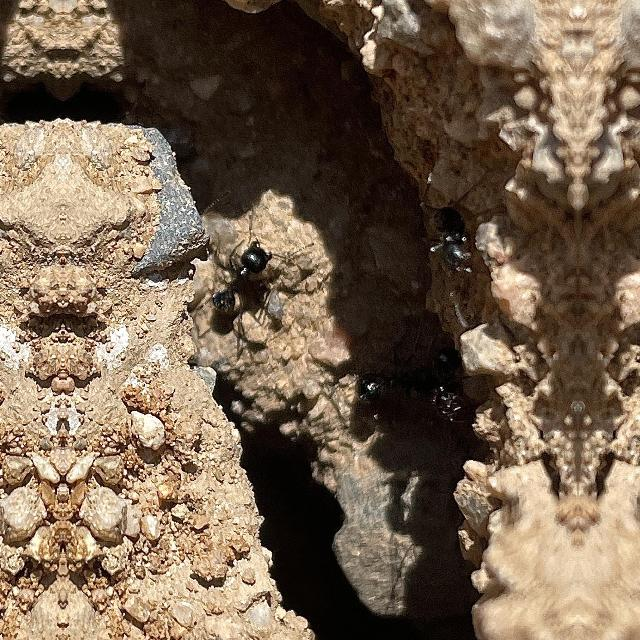Messor: (173, 237, 299, 331), (412, 195, 474, 268)
